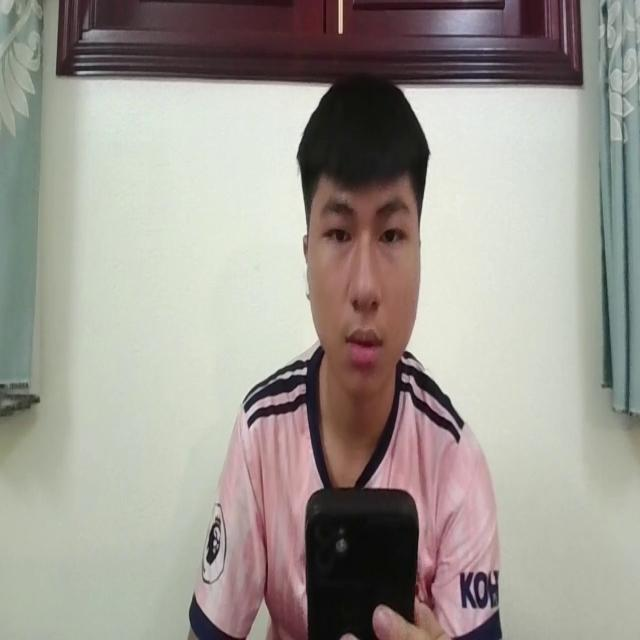phone: (305, 475, 418, 640)
student: (201, 73, 503, 640)
